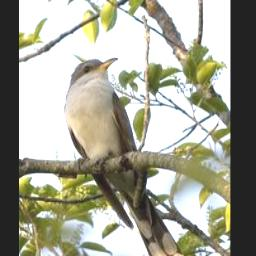Cuckoo: (64, 56, 187, 256)
